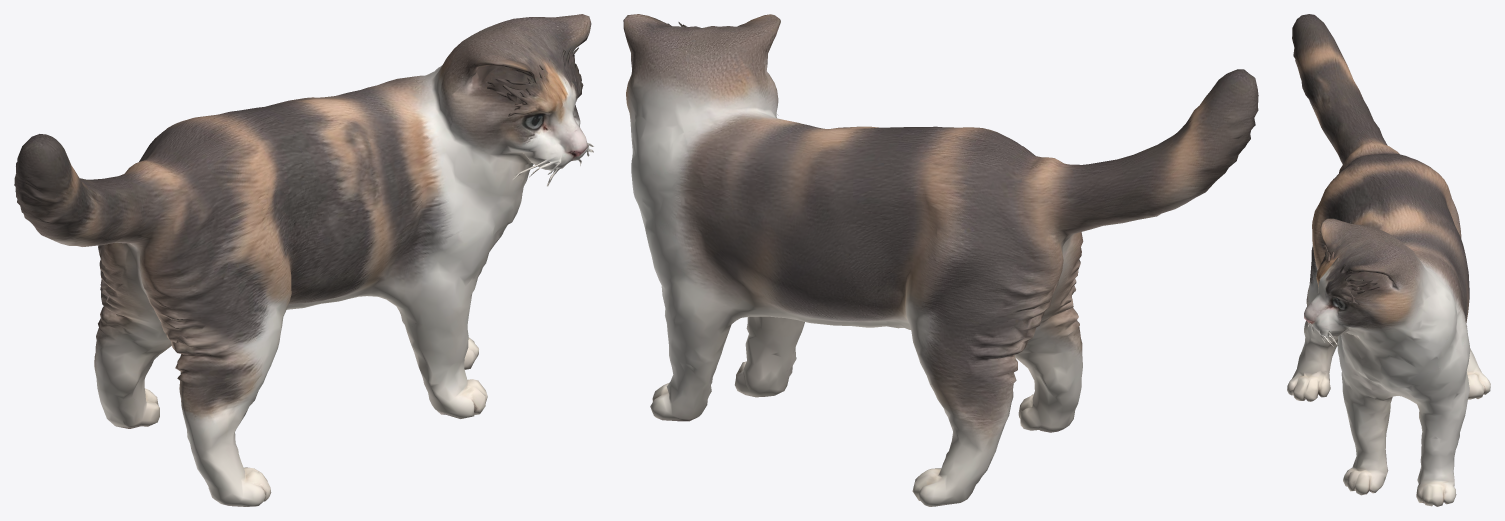
File: MEMOPAW.glb
3 renders of one model, left to right at view 1: azimuth 30°, elevation 25°; view 2: azimuth 150°, elevation 25°; view 3: azimuth 270°, elevation 25°, orthographic. The views are drawn at different scales.
Visible parts, largest first — view 1: tripo_node_90f17b8f-6b9c-44c2-943f-0f468b149538; view 2: tripo_node_90f17b8f-6b9c-44c2-943f-0f468b149538; view 3: tripo_node_90f17b8f-6b9c-44c2-943f-0f468b149538.
Boxes of the visible parts, left/top/right/bottom form: tripo_node_90f17b8f-6b9c-44c2-943f-0f468b149538: left=14, top=14, right=593, bottom=506; tripo_node_90f17b8f-6b9c-44c2-943f-0f468b149538: left=623, top=14, right=1258, bottom=506; tripo_node_90f17b8f-6b9c-44c2-943f-0f468b149538: left=1287, top=14, right=1490, bottom=506.
Size of the model in its own units: 1.54 by 1 by 0.5993.
1 material, 1 textured.
